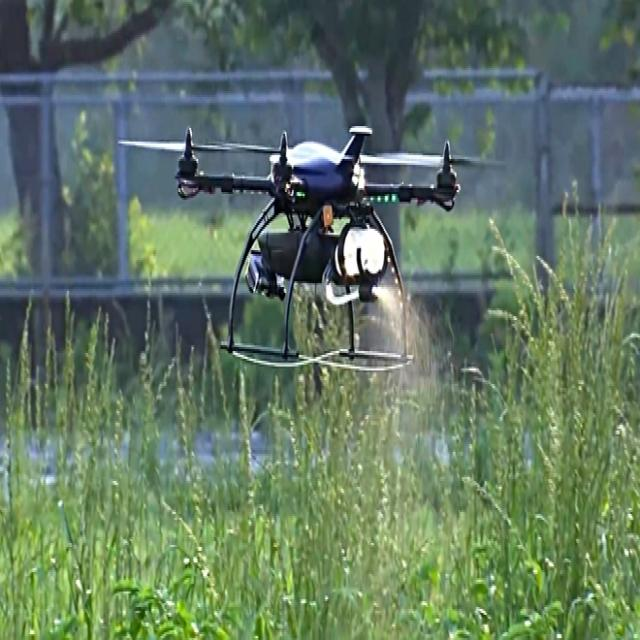drone: (106, 105, 501, 287)
